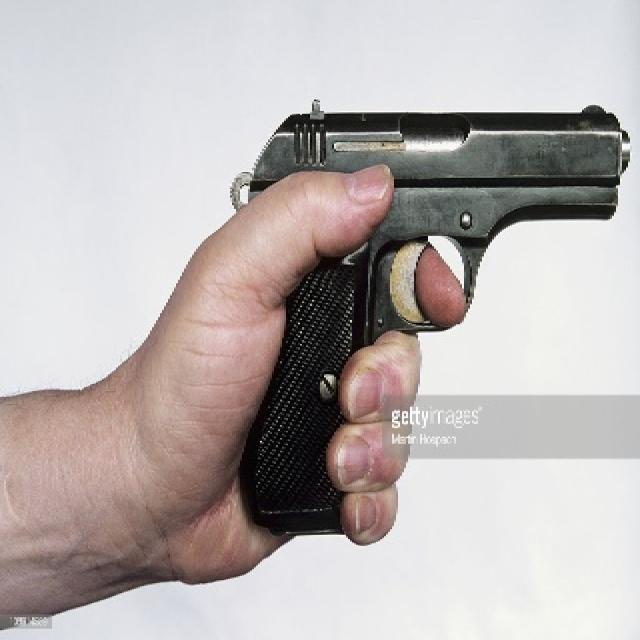handgun: (229, 93, 629, 540)
